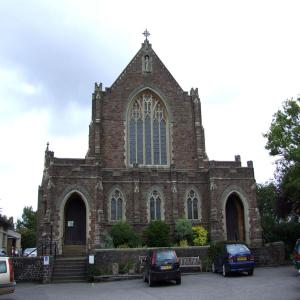Vehicle-registration-plate: (162, 265, 173, 271), (239, 258, 249, 263)
